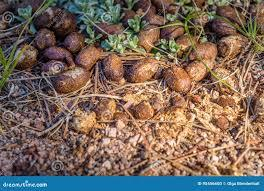Elk: (41, 17, 260, 91)
